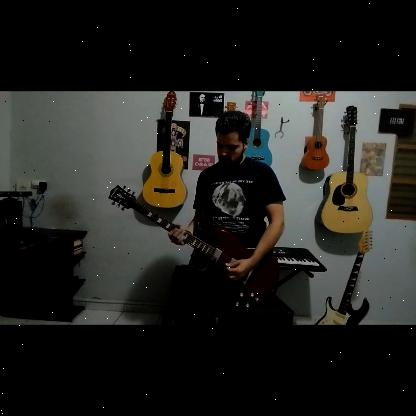acousticguitar: (320, 105, 372, 235), (143, 92, 187, 210), (245, 90, 273, 168)
guitar: (114, 185, 278, 320), (312, 227, 372, 325)
